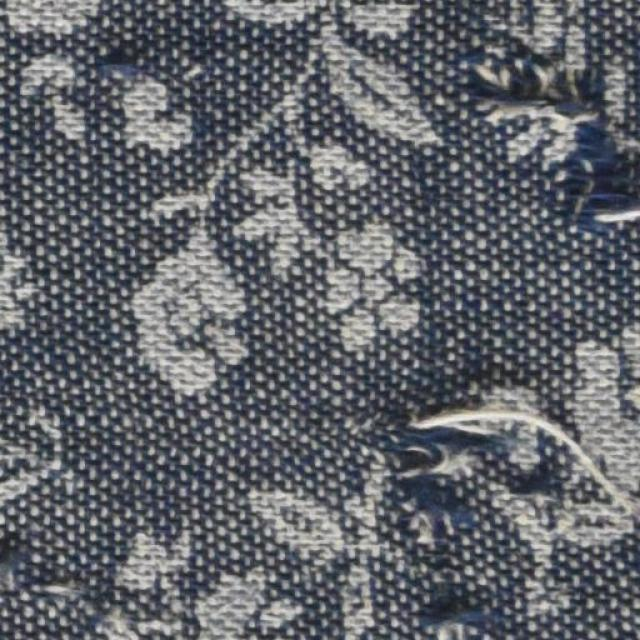Snag: (388, 389, 616, 564), (460, 50, 637, 256), (0, 529, 79, 608), (413, 584, 495, 638)
